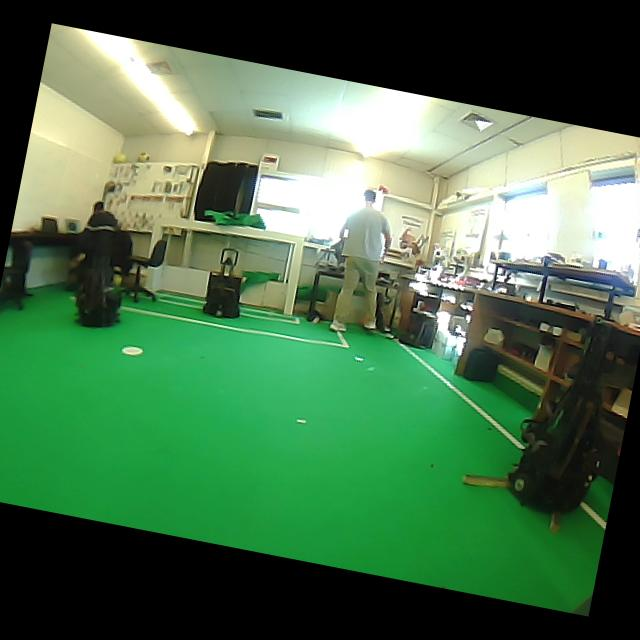ball: (113, 153, 128, 164), (112, 274, 122, 287), (138, 153, 148, 162)
goal: (283, 238, 303, 315)
robot: (507, 319, 611, 513), (76, 266, 122, 327), (203, 248, 242, 318)
